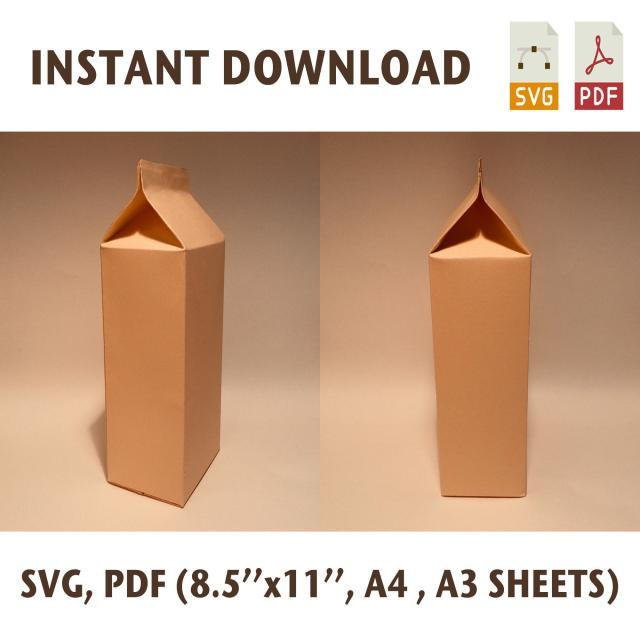Carton: (86, 143, 242, 516), (429, 158, 544, 514)
